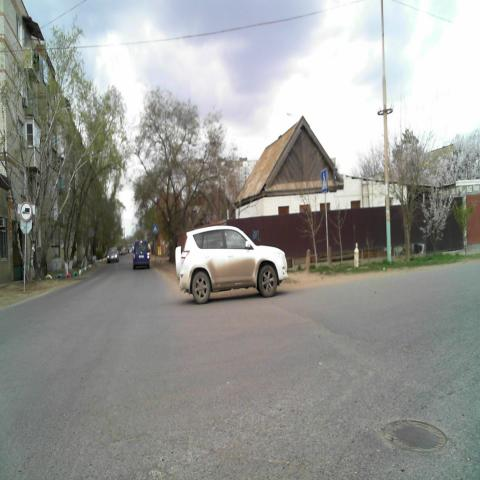3_4_1: (21, 201, 32, 222)
